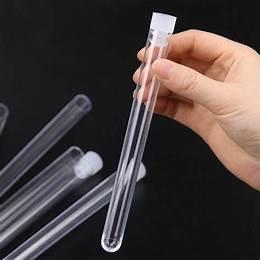Test tube: (25, 15, 203, 251)
